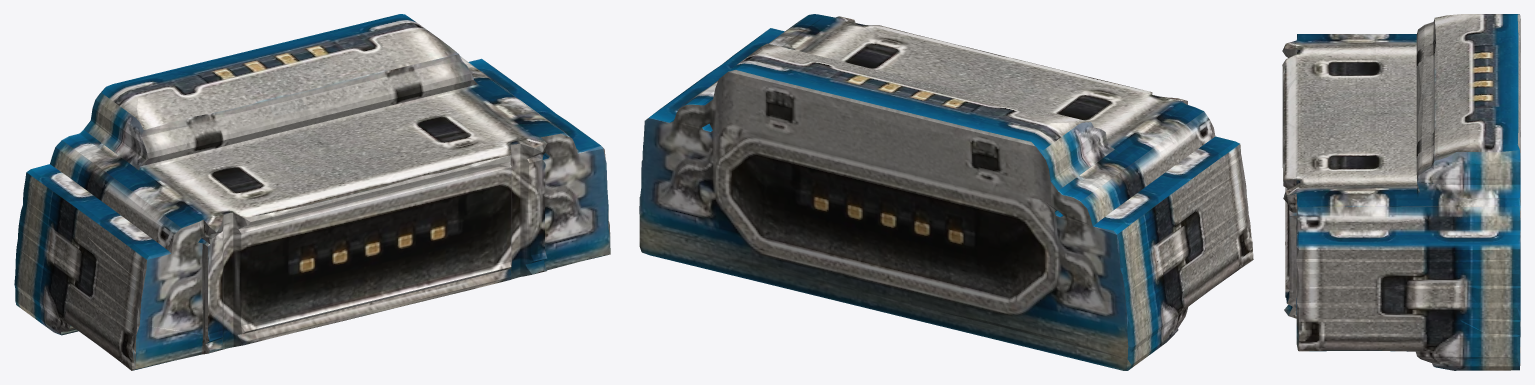
File: usb_receptacle.glb
3 views of the same model, side by side, from view 1: azimuth 30°, elevation 25°; view 2: azimuth 150°, elevation 25°; view 3: azimuth 270°, elevation 25° (orthographic). The views are drawn at different scales.
Visible parts, largest first — view 1: usb_receptacle; view 2: usb_receptacle; view 3: usb_receptacle.
Boxes of the visible parts, x1,y1,x2,y2 form: usb_receptacle: (14, 14, 610, 370); usb_receptacle: (639, 14, 1253, 370); usb_receptacle: (1282, 14, 1520, 370).
Size of the model in its own units: 7.61 by 3.09 by 3.53.
1 material, 1 textured.
